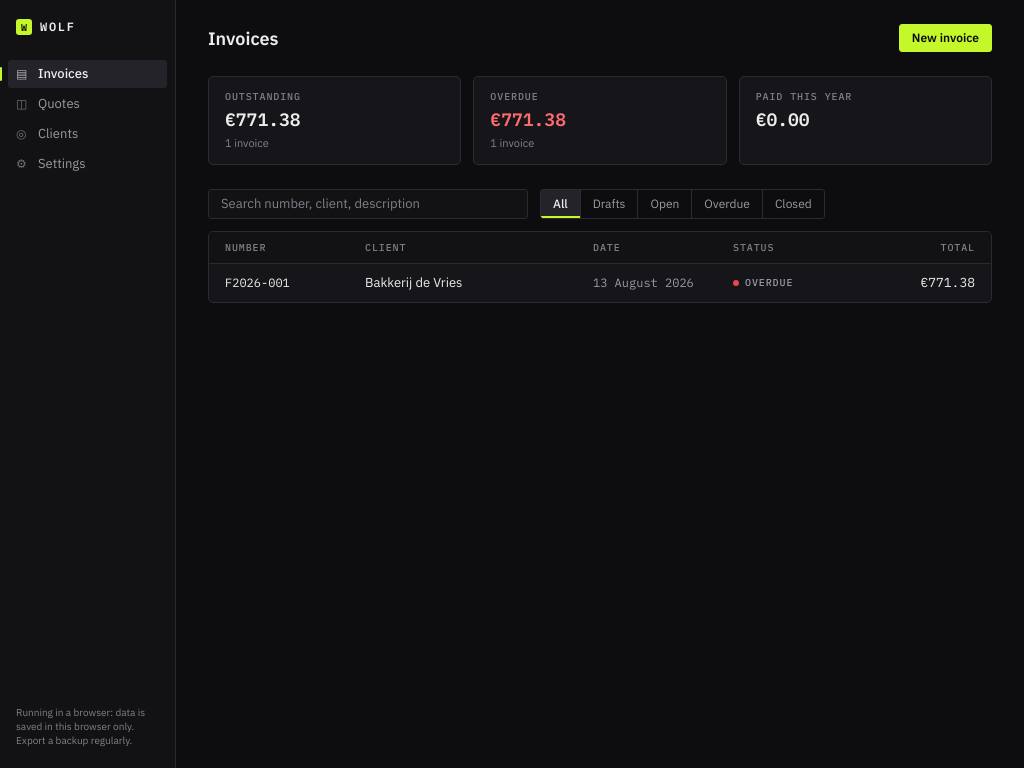
Scenario: clients › won't delete a client that appears on an invoice
Click the button "◎ Clients" at (88, 134), box [8,120,167,148]
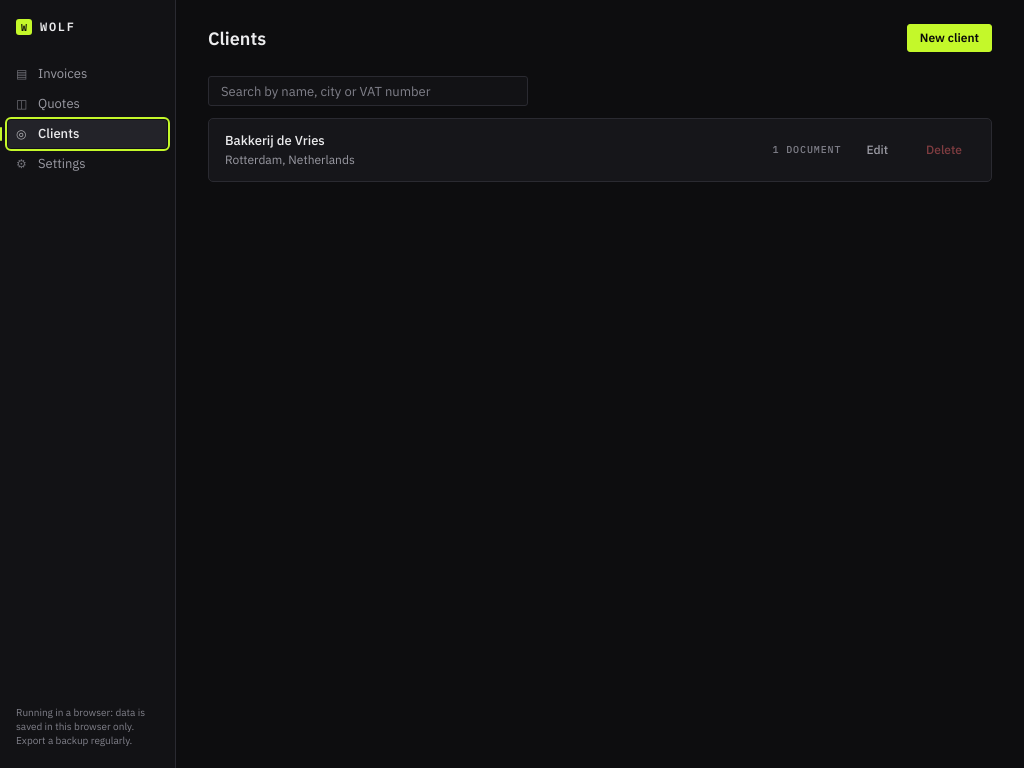
Check: the button with aria-label "Delete Bakkerij de Vries" is disabled, box [913,136,975,164]
